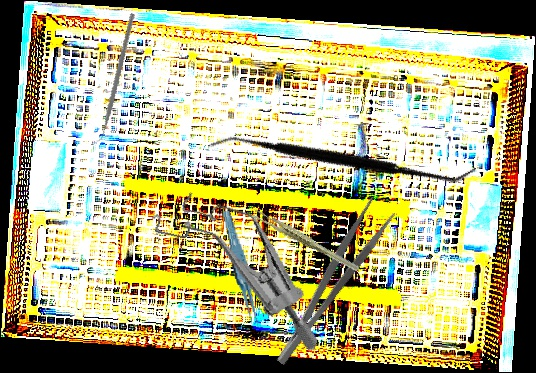Chopper: (56, 12, 169, 146)
Dressing Forceps: (259, 195, 399, 369)
Spatula Surgical: (208, 49, 478, 266)
Speculum: (128, 182, 349, 353)
Tissue Forceps: (250, 192, 361, 290), (221, 208, 261, 332)
